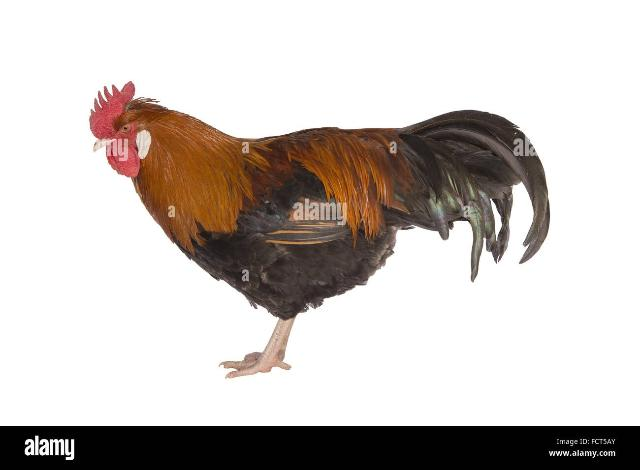Chicken: (89, 80, 551, 378)
